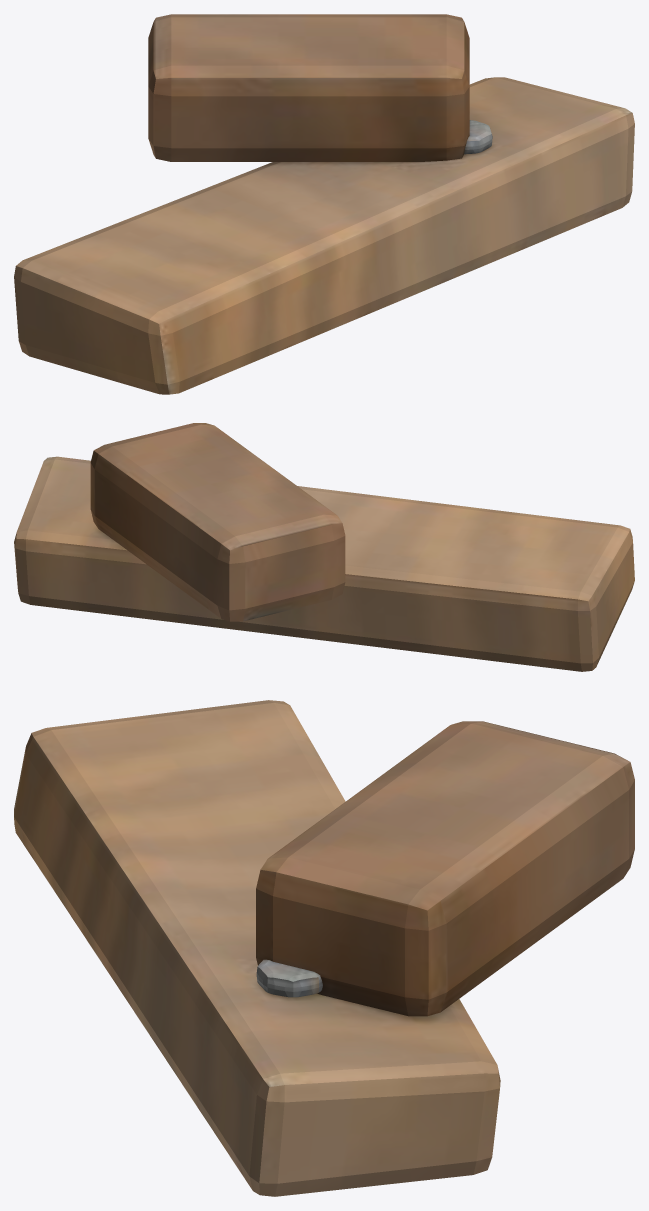
File: scrap_wood_offcut.glb
The picture shows the model from 3 angles, top to bottom: view 1: azimuth 30°, elevation 25°; view 2: azimuth 150°, elevation 25°; view 3: azimuth 270°, elevation 25°; orthographic projection. The views are drawn at different scales.
Parts seen in each view (by area): view 1: WoodOffcut_Mesh; view 2: WoodOffcut_Mesh; view 3: WoodOffcut_Mesh.
Boxes of the visible parts, box(x1,y1,x2,y2) form: WoodOffcut_Mesh: box(14, 14, 634, 394); WoodOffcut_Mesh: box(14, 423, 634, 671); WoodOffcut_Mesh: box(14, 700, 634, 1196).
Size of the model in its own units: 0.6184 by 0.173 by 0.4079.
1 material, 1 textured.
